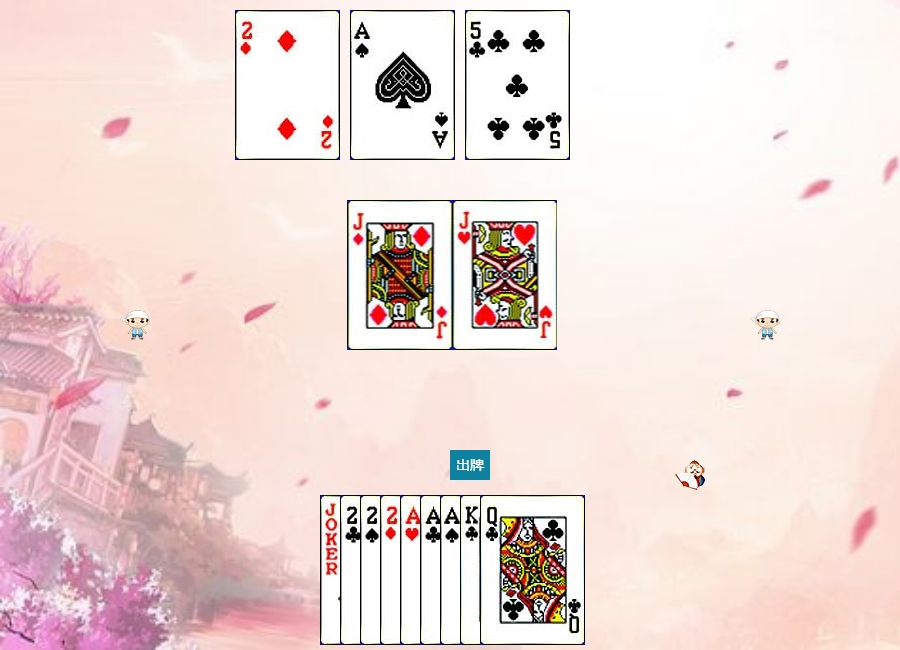11~1: (348, 200, 453, 350)
11~3: (453, 200, 558, 350)
12~2: (480, 495, 585, 645)
13~2: (460, 495, 565, 645)
14~2: (420, 495, 525, 645)
14~3: (400, 495, 505, 645)
14~4: (350, 10, 455, 160), (440, 495, 545, 645)
15~1: (235, 10, 340, 160), (380, 495, 485, 645)
15~2: (340, 495, 445, 645)
15~4: (360, 495, 465, 645)
18~4: (320, 495, 425, 645)
5~2: (465, 10, 570, 160)
